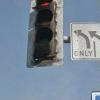Traffic light: (22, 2, 71, 72)
